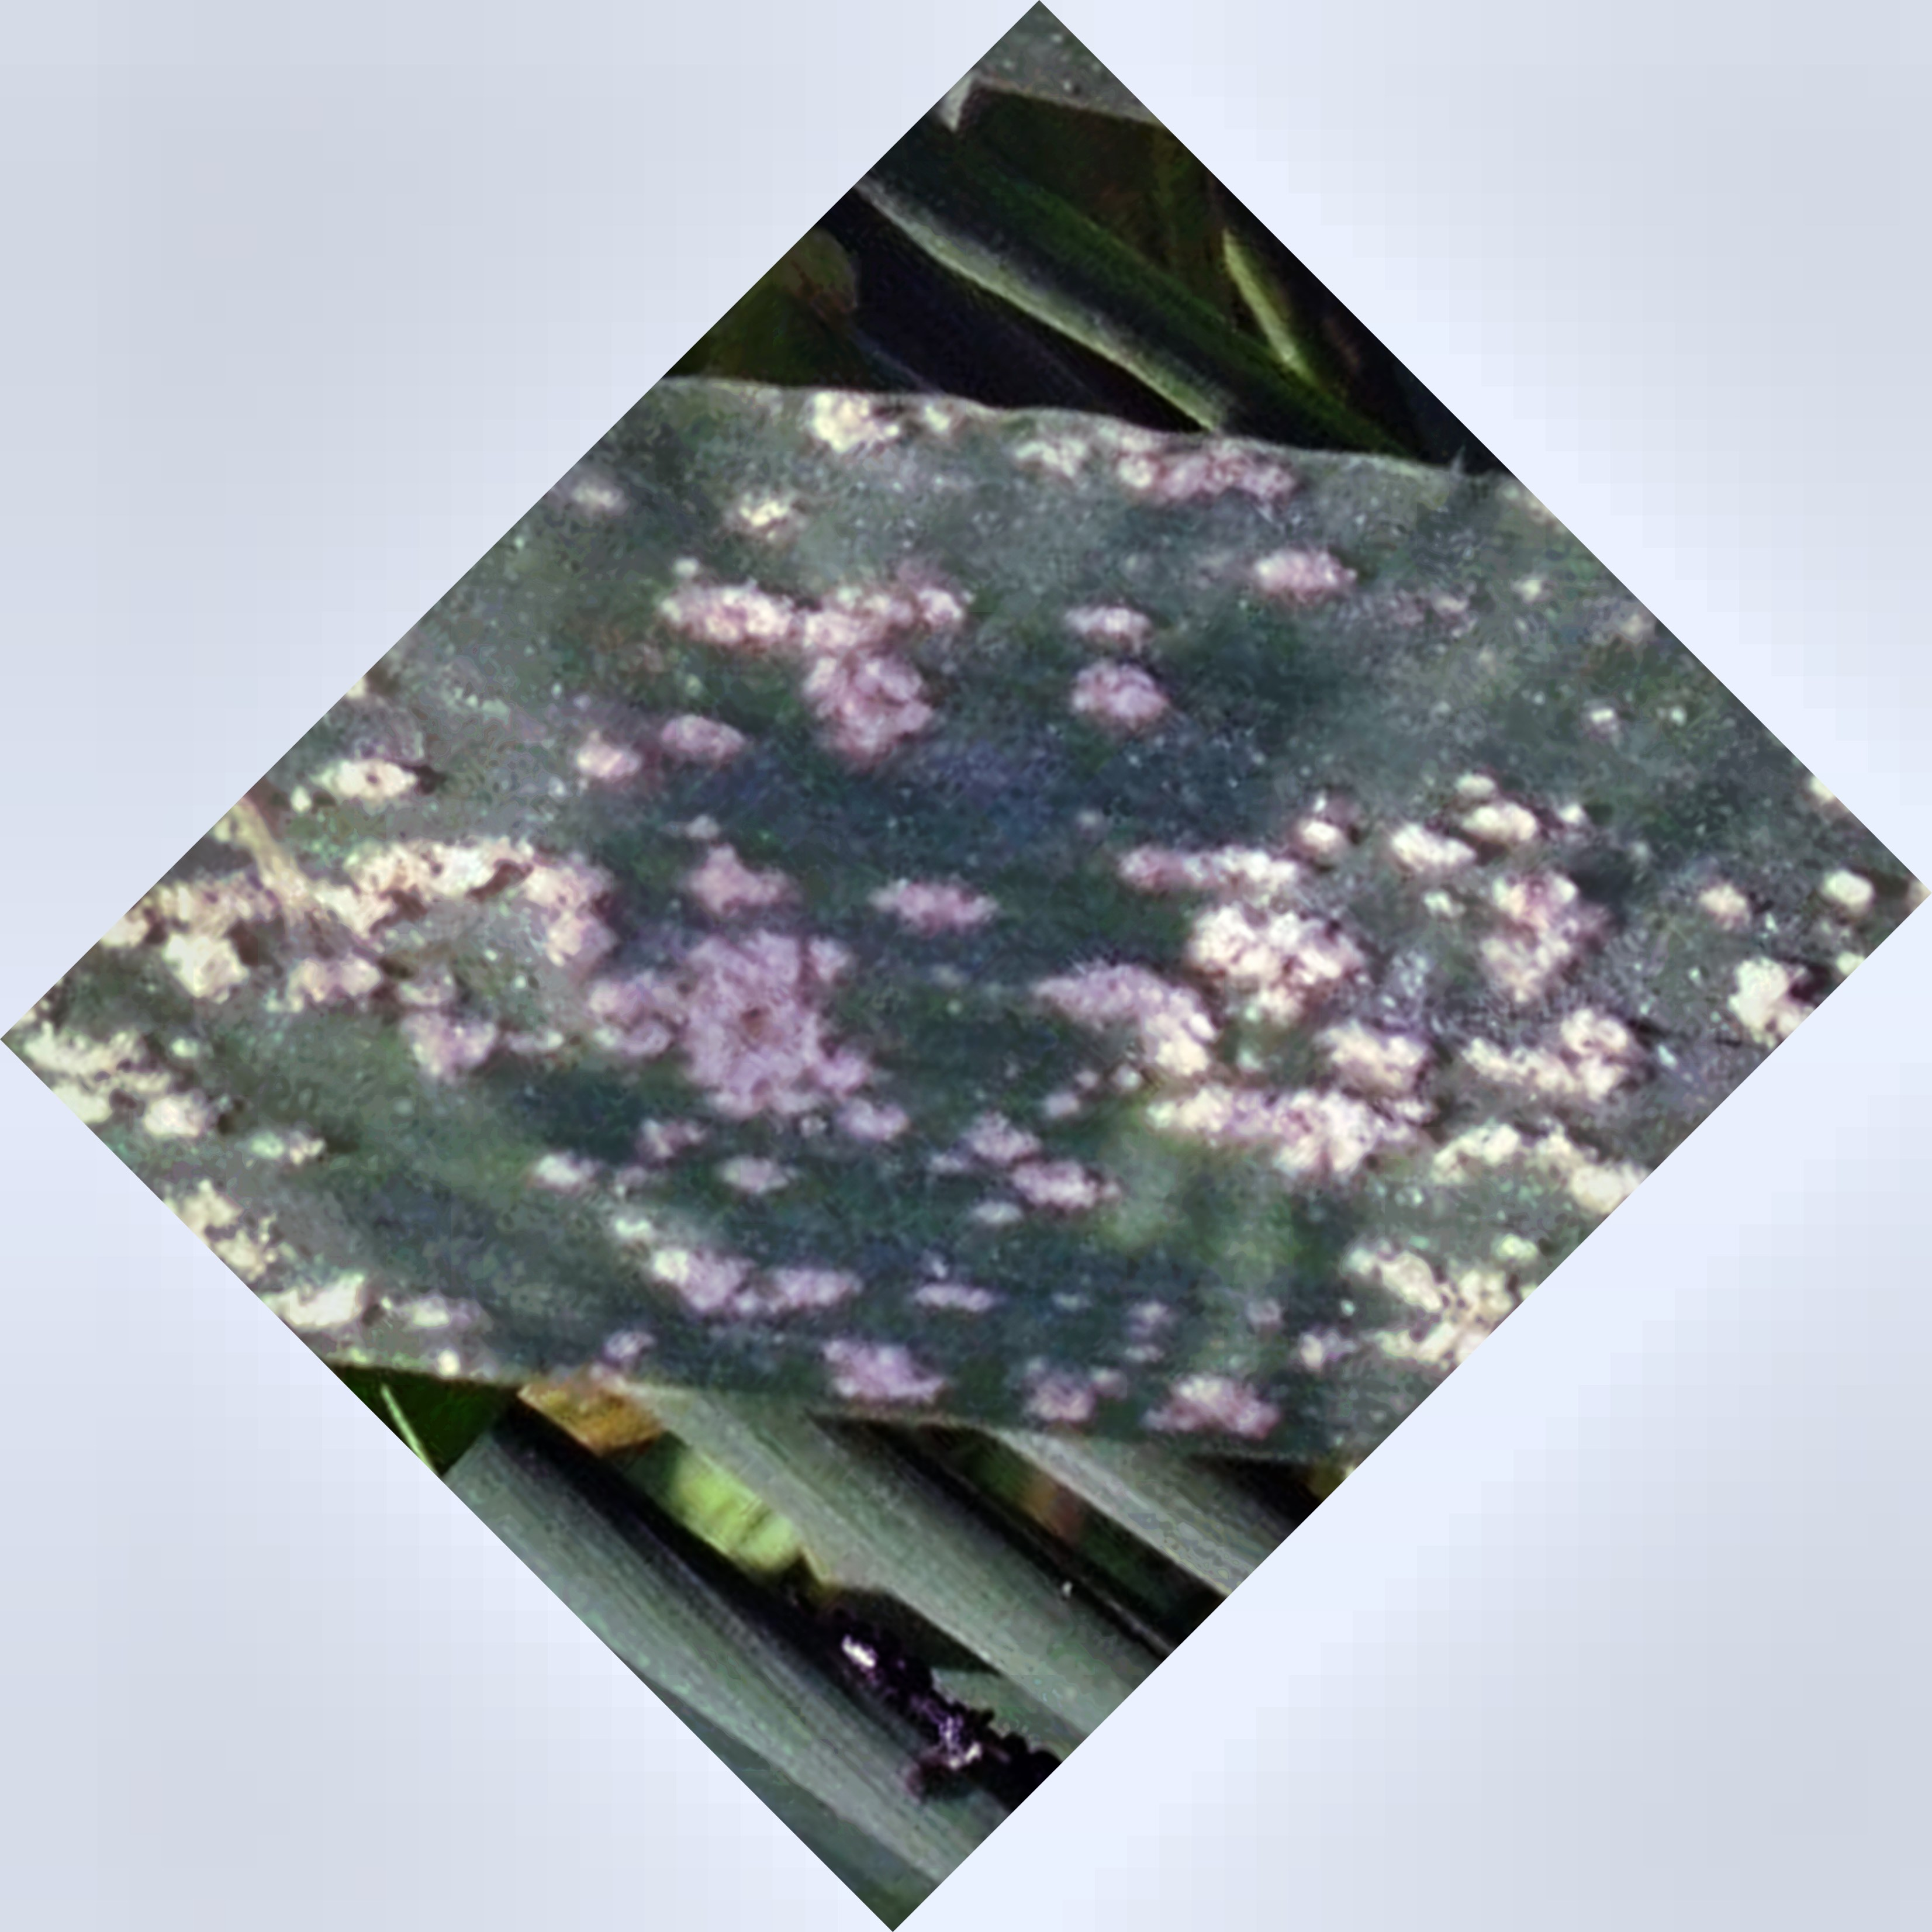Powdery Mildew: (209, 518, 1605, 1417)
